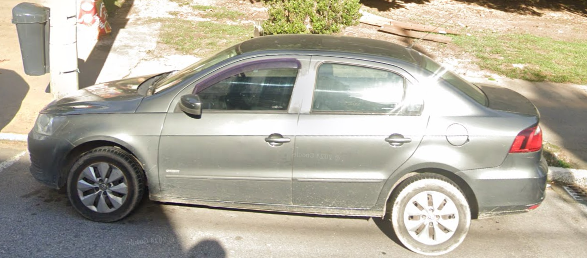car: (27, 32, 552, 258)
